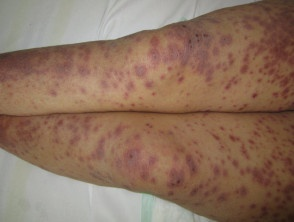SJS-TEN: (0, 110, 294, 222), (0, 1, 294, 111)
